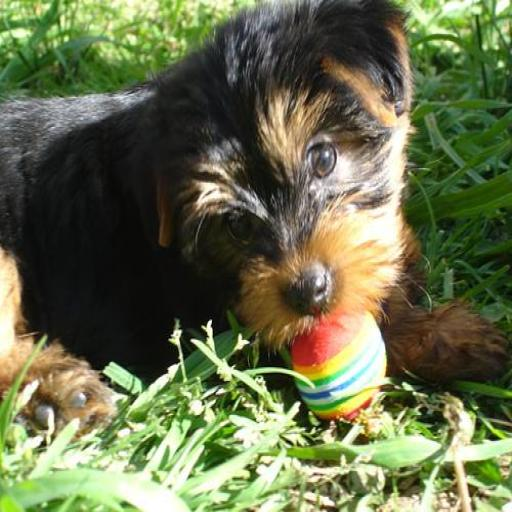dog_face: (154, 10, 408, 344)
